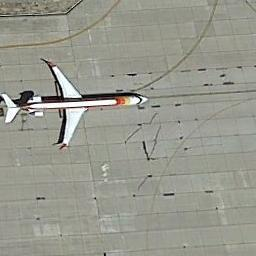Airplane: (0, 59, 150, 153)
